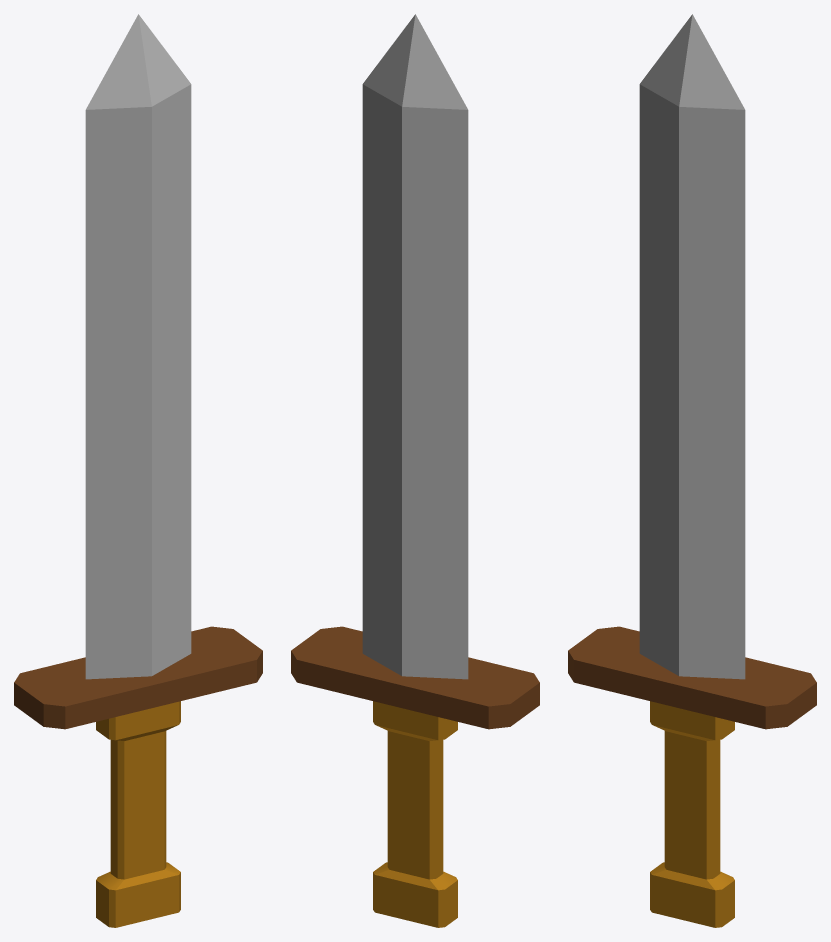
Rendered from Sword.FBX.
The picture shows the model from 3 angles, left to right: view 1: azimuth 30°, elevation 25°; view 2: azimuth 150°, elevation 25°; view 3: azimuth 330°, elevation 25°; orthographic projection.
Visible parts, largest first — view 1: Sword; view 2: Sword; view 3: Sword.
Boxes of the visible parts, x1=… form: Sword: x1=14, y1=14, x2=262, y2=927; Sword: x1=291, y1=14, x2=539, y2=927; Sword: x1=568, y1=14, x2=816, y2=927.
Bounding box in the file's own units: 15.83 × 62.04 × 5.67.
